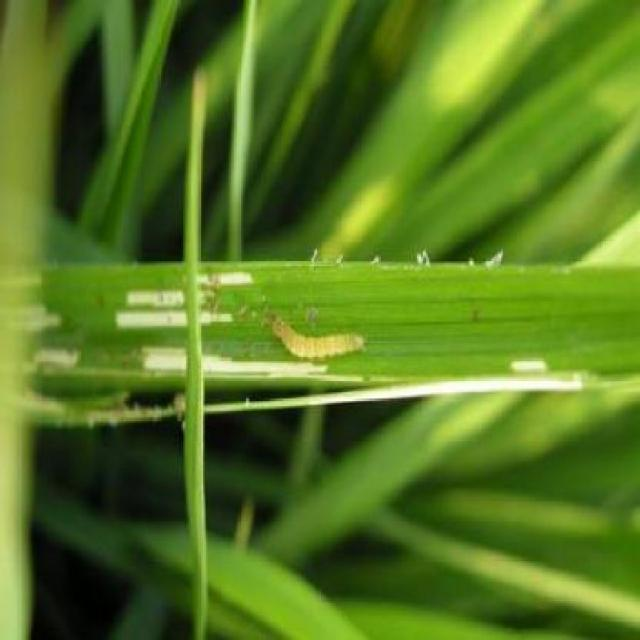leaf-folder: (260, 290, 374, 382)
